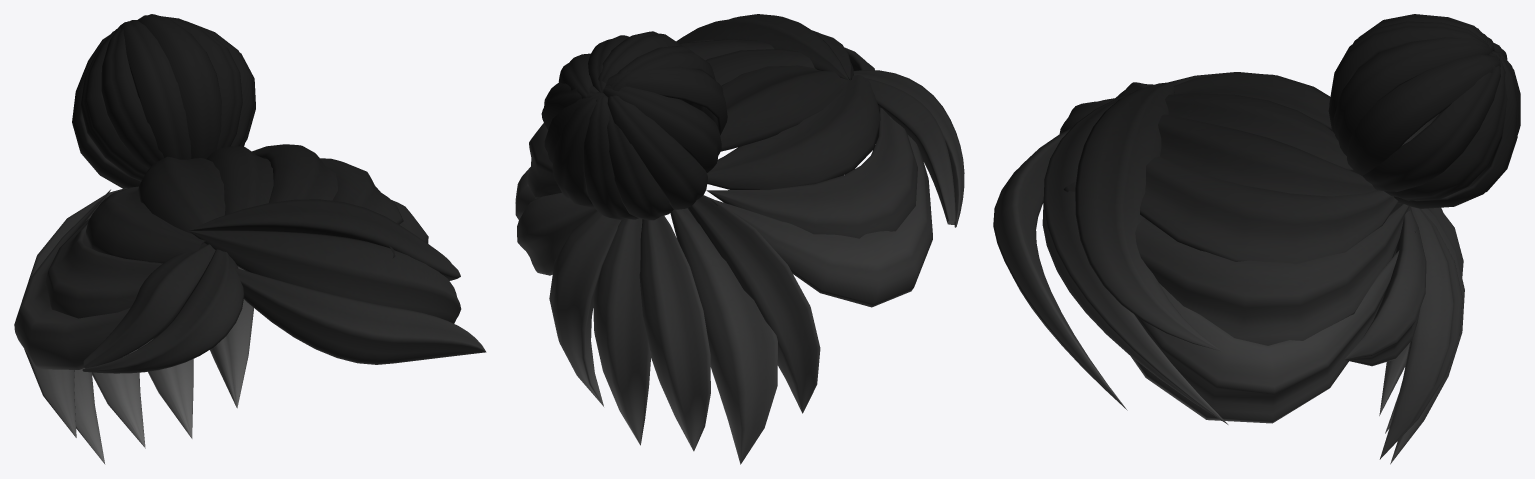
File: haire3.fbx
3 views of the same model, side by side, from view 1: azimuth 30°, elevation 25°; view 2: azimuth 150°, elevation 25°; view 3: azimuth 270°, elevation 25° (orthographic). The views are drawn at different scales.
Visible parts, largest first — view 1: NurbsPath.040; view 2: NurbsPath.040; view 3: NurbsPath.040.
Part boxes in pixels (left/top/right/bottom): NurbsPath.040: left=14, top=14, right=486, bottom=464; NurbsPath.040: left=515, top=14, right=964, bottom=464; NurbsPath.040: left=993, top=14, right=1520, bottom=464.
Bounding box in the file's own units: 300 × 277 × 273.
